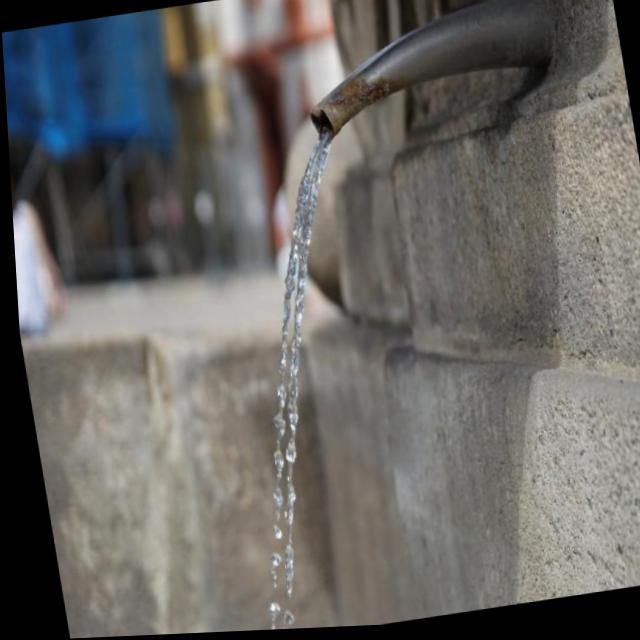leak: (268, 129, 331, 630)
